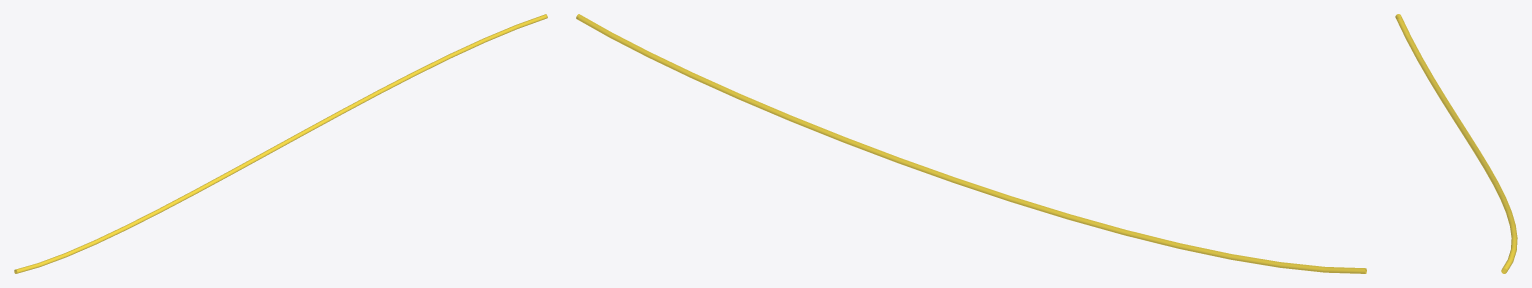
File: Event_15818458_track_50.fbx
3 renders of one model, left to right at view 1: azimuth 30°, elevation 25°; view 2: azimuth 150°, elevation 25°; view 3: azimuth 270°, elevation 25°, orthographic. The views are drawn at different scales.
Visible parts, largest first — view 1: Model; view 2: Model; view 3: Model.
Part boxes in pixels (x1,y1,x2,y2): Model: [14, 14, 547, 273]; Model: [576, 14, 1366, 273]; Model: [1395, 14, 1517, 273].
Bounding box in the file's own units: 5.86 × 0.9268 × 0.8152.
